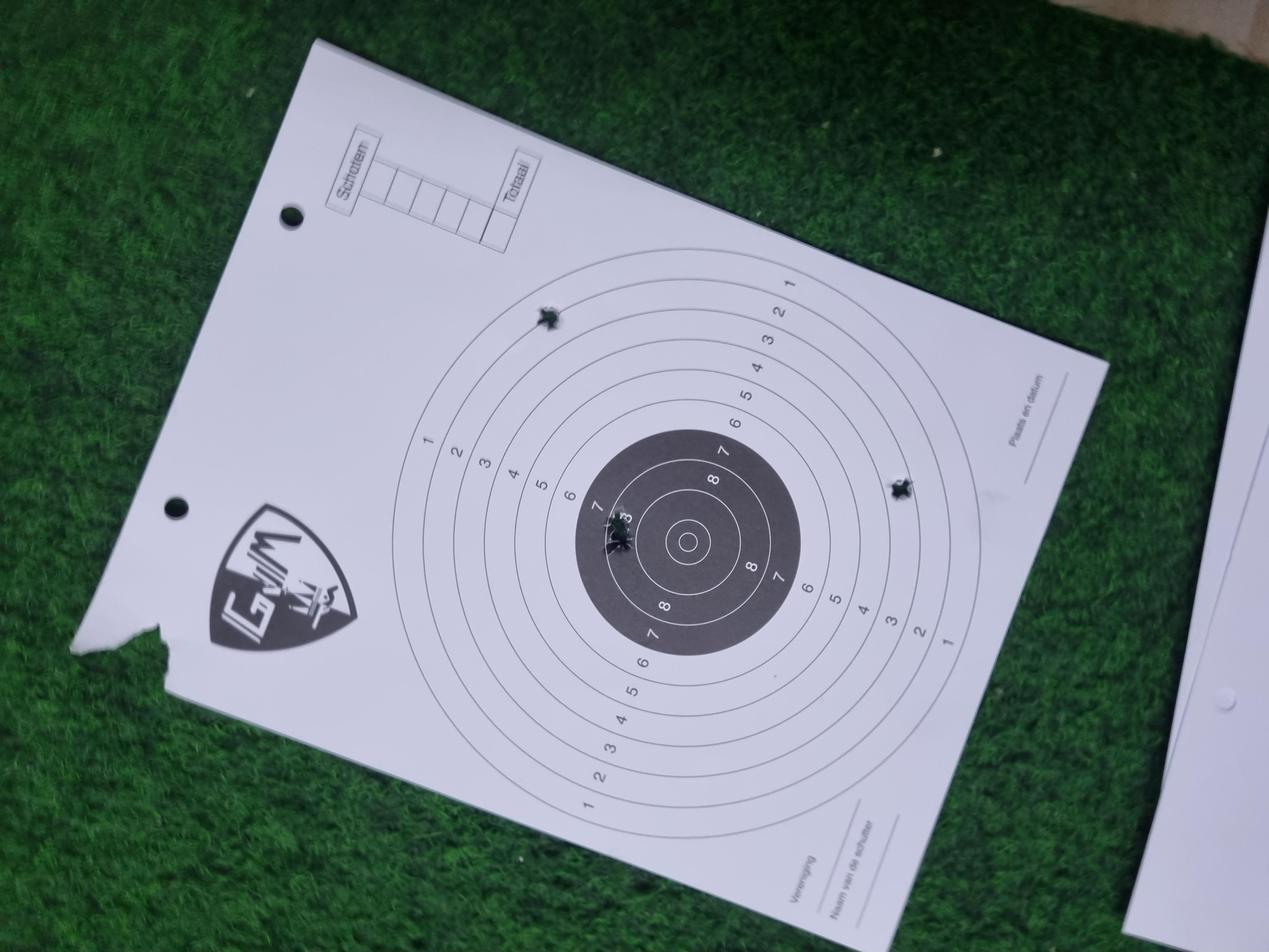hole: (823, 401, 875, 425), (595, 663, 634, 687), (530, 455, 559, 474)
